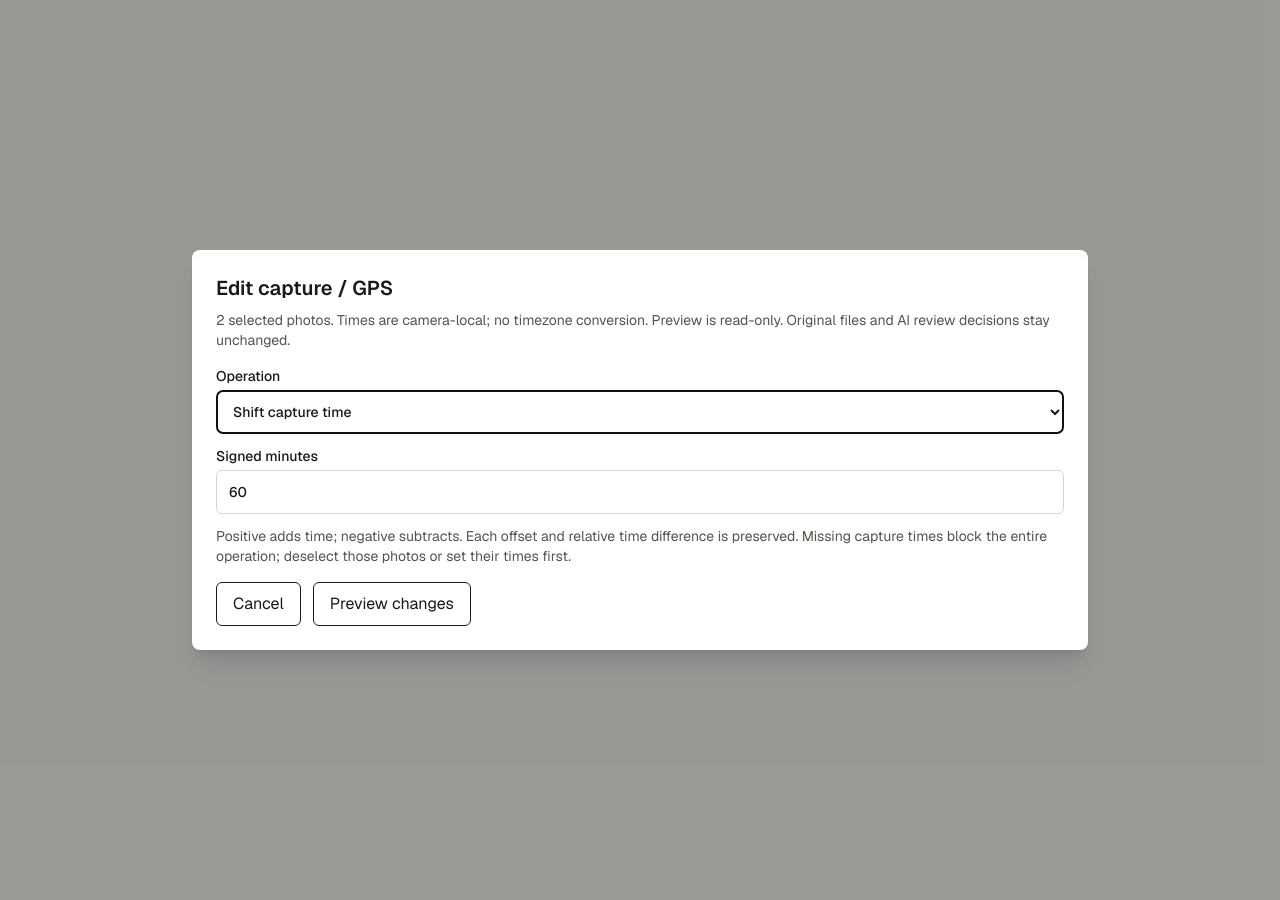
Test case: operation set_gps sends typed values
This screenshot has width=1280, height=900.
Select "Set GPS coordinates" in the dropdown labelled "Operation". click: (640, 412)
box: [216,390,1064,434]
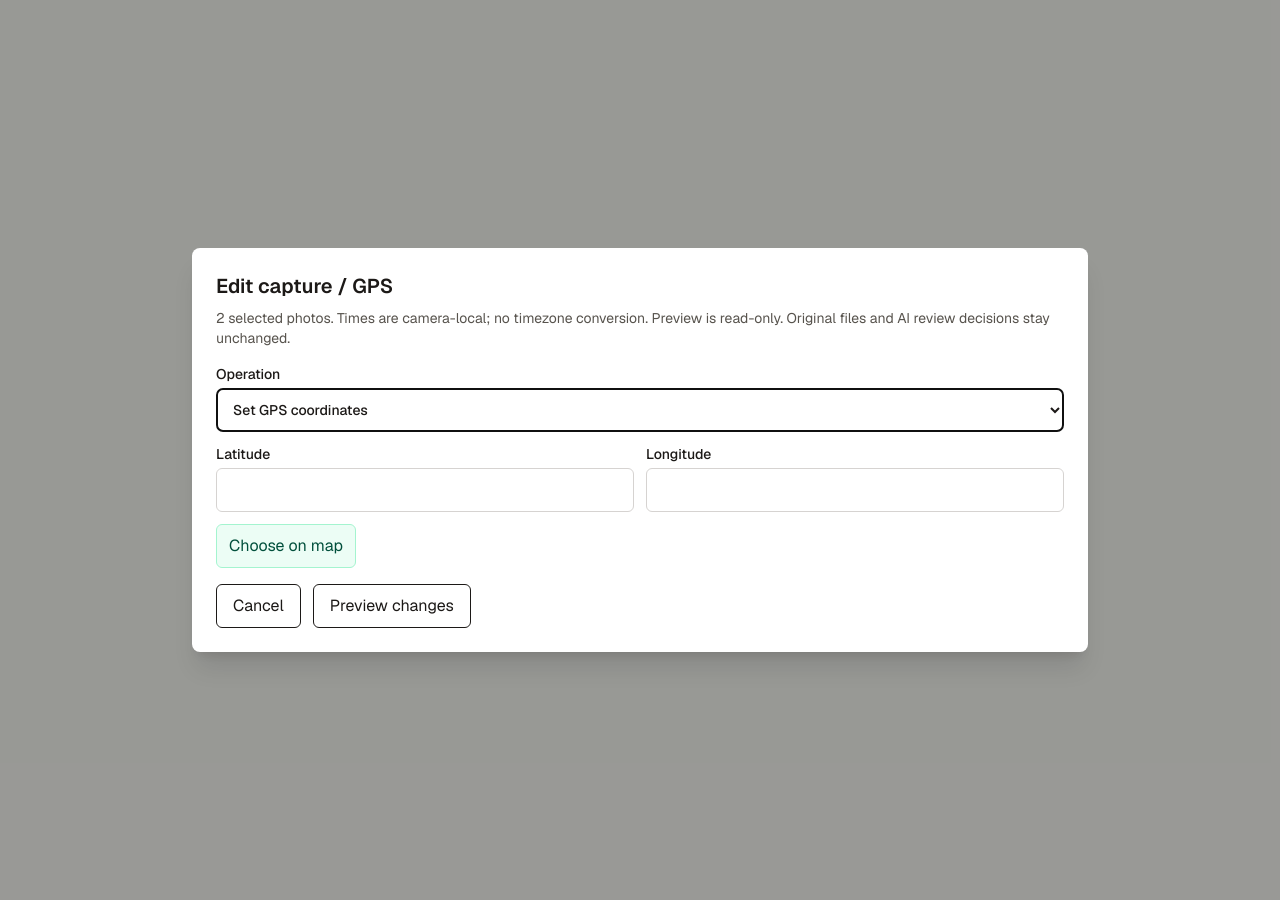
Type "46.2" into the field labelled "Latitude". click: (425, 490)
box: [216,468,634,512]
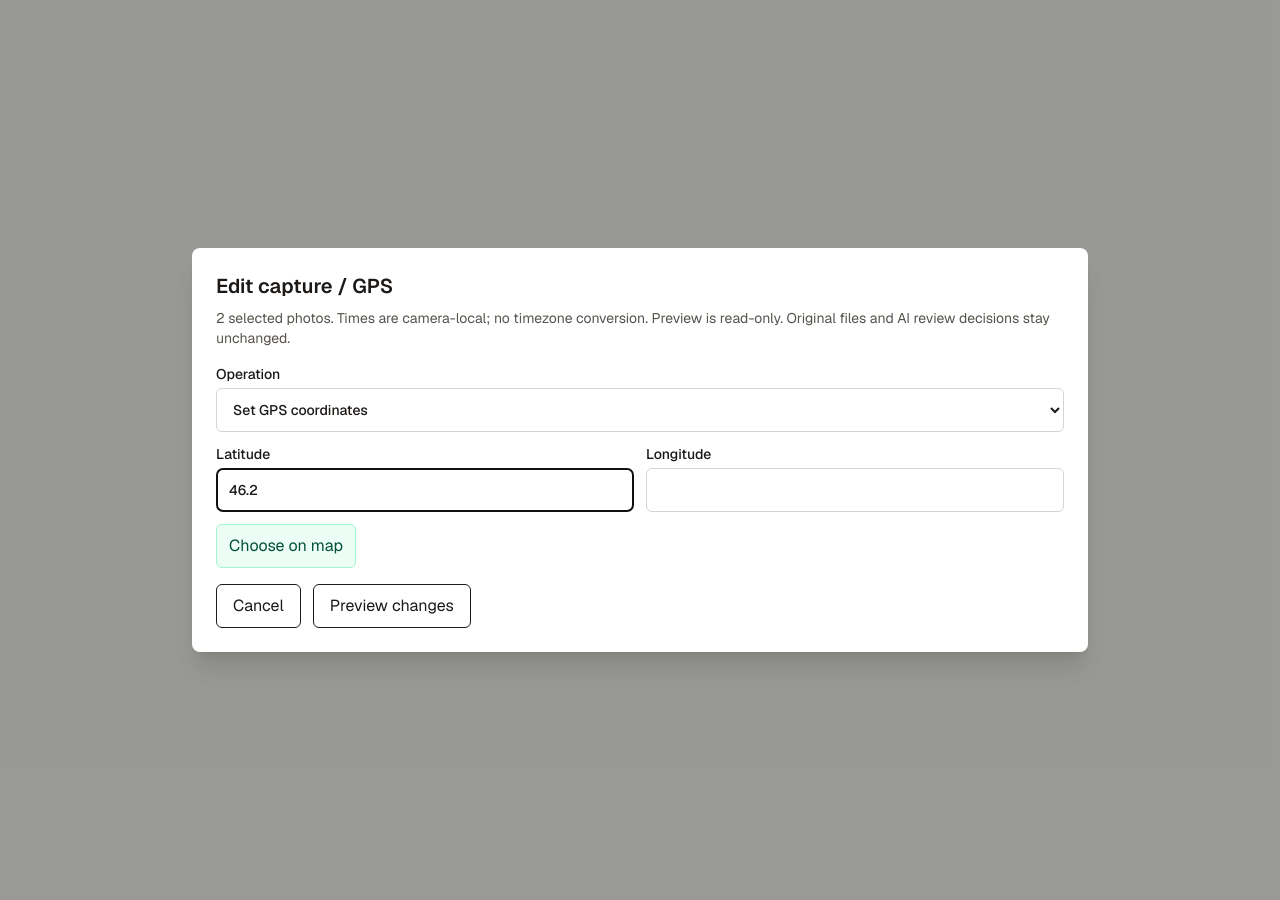
Type "14.3" into the field labelled "Longitude". click: (855, 490)
box: [646,468,1064,512]
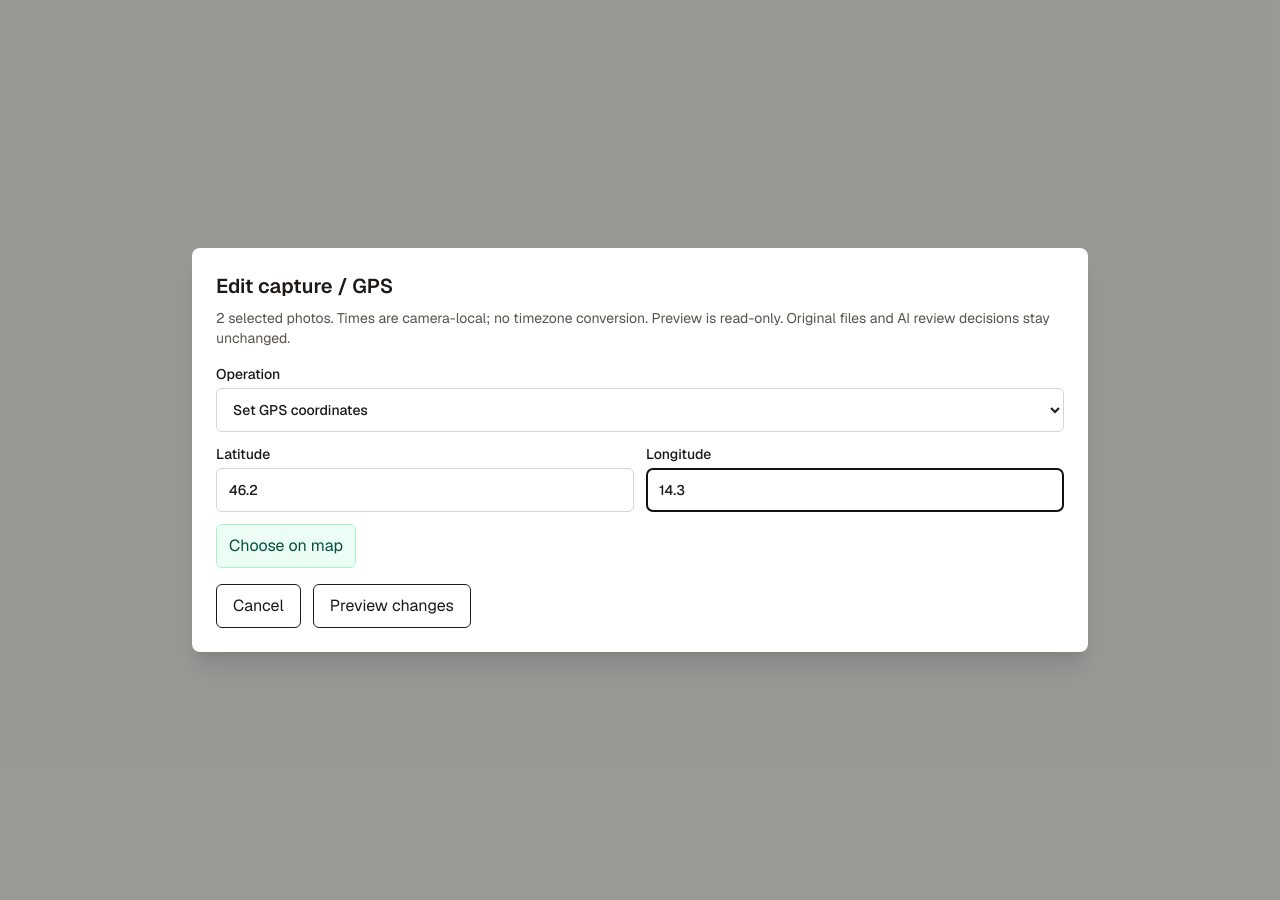
Click the button "Preview changes". click: (392, 606)
box: [313,584,471,628]
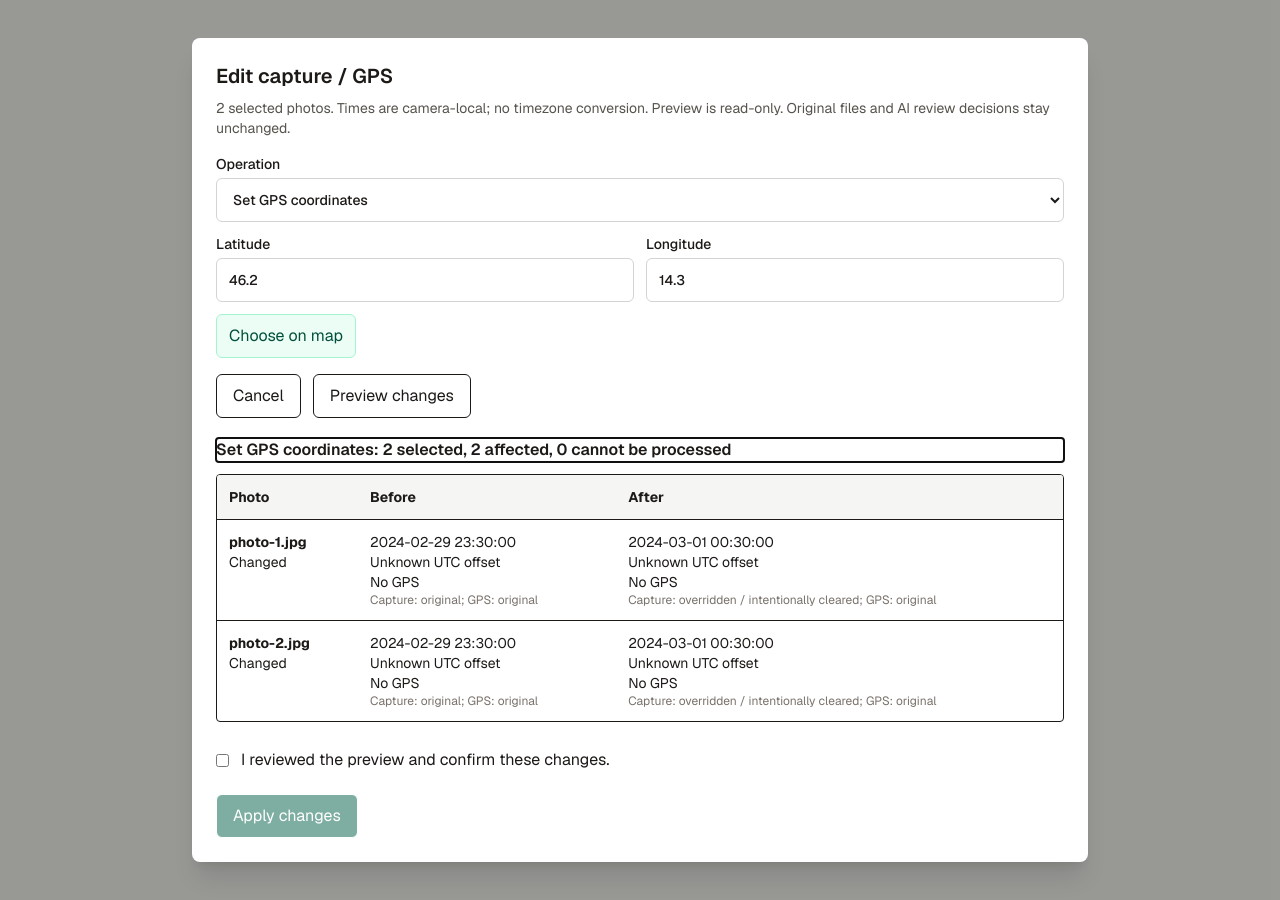
Expected: the table is shown, [217,475,1063,721]
